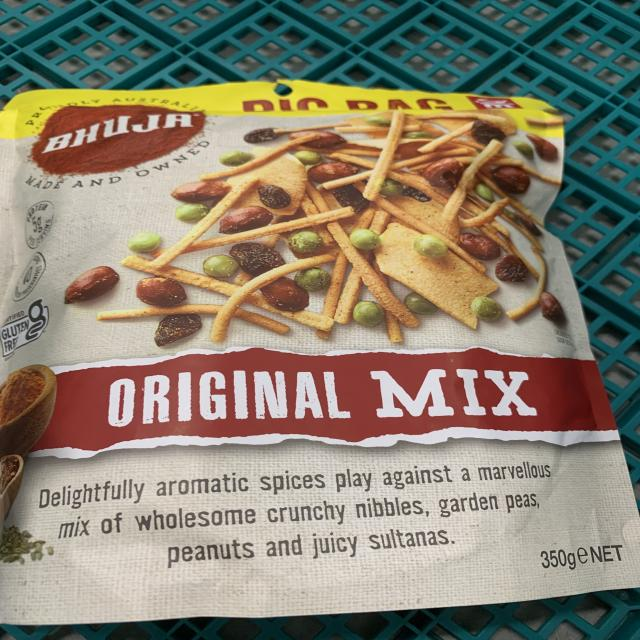object_name: (0, 86, 635, 607)
